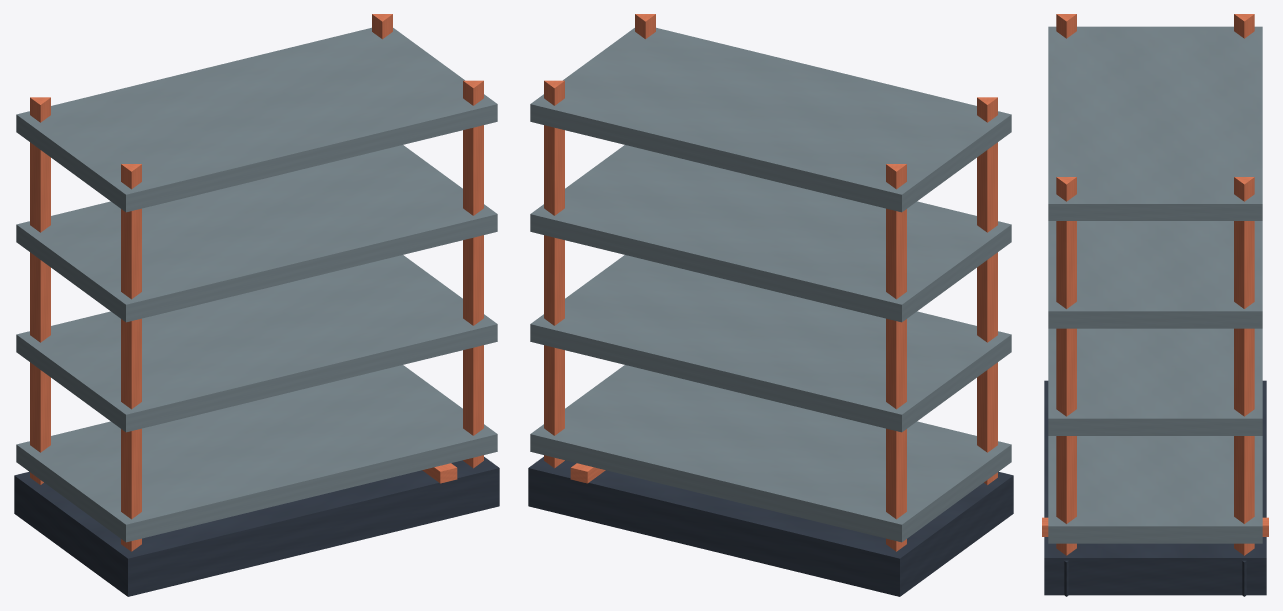
Rendered from atlas100-s026-a06.lod2.glb.
The picture shows the model from 3 angles, left to right: view 1: azimuth 30°, elevation 25°; view 2: azimuth 150°, elevation 25°; view 3: azimuth 270°, elevation 25°; orthographic projection. The views are drawn at different scales.
Visible parts, largest first — view 1: atlas100-s026-a06:part-014, atlas100-s026-a06:part-013, atlas100-s026-a06:part-012, atlas100-s026-a06:part-011, atlas100-s026-a06:part-000, atlas100-s026-a06:part-005, atlas100-s026-a06:part-009, atlas100-s026-a06:part-003; view 2: atlas100-s026-a06:part-014, atlas100-s026-a06:part-013, atlas100-s026-a06:part-012, atlas100-s026-a06:part-011, atlas100-s026-a06:part-000, atlas100-s026-a06:part-003, atlas100-s026-a06:part-007, atlas100-s026-a06:part-005; view 3: atlas100-s026-a06:part-014, atlas100-s026-a06:part-011, atlas100-s026-a06:part-013, atlas100-s026-a06:part-012, atlas100-s026-a06:part-000, atlas100-s026-a06:part-007, atlas100-s026-a06:part-009, atlas100-s026-a06:part-003, atlas100-s026-a06:part-005.
Part boxes in pixels (x1,y1,x2,y2): atlas100-s026-a06:part-014: (16,27,497,212); atlas100-s026-a06:part-013: (16,145,497,322); atlas100-s026-a06:part-012: (16,255,497,432); atlas100-s026-a06:part-011: (16,365,497,542); atlas100-s026-a06:part-000: (14,457,499,596); atlas100-s026-a06:part-005: (121,164,141,551); atlas100-s026-a06:part-009: (463,80,483,468); atlas100-s026-a06:part-003: (30,97,50,484); atlas100-s026-a06:part-014: (530,27,1011,212); atlas100-s026-a06:part-013: (530,145,1011,322); atlas100-s026-a06:part-012: (530,255,1011,432); atlas100-s026-a06:part-011: (530,365,1011,542); atlas100-s026-a06:part-000: (528,457,1013,596); atlas100-s026-a06:part-003: (886,164,906,551); atlas100-s026-a06:part-007: (544,80,564,468); atlas100-s026-a06:part-005: (977,97,997,484); atlas100-s026-a06:part-014: (1048,26,1262,220); atlas100-s026-a06:part-011: (1048,436,1262,543); atlas100-s026-a06:part-013: (1048,221,1262,328); atlas100-s026-a06:part-012: (1048,328,1262,435); atlas100-s026-a06:part-000: (1044,380,1266,595); atlas100-s026-a06:part-007: (1234,177,1254,555); atlas100-s026-a06:part-009: (1056,177,1076,555); atlas100-s026-a06:part-003: (1234,14,1254,38); atlas100-s026-a06:part-005: (1056,14,1076,38).
Bounding box in the file's own units: 2.66 × 2.84 × 1.43.
3 materials, 3 textured.
